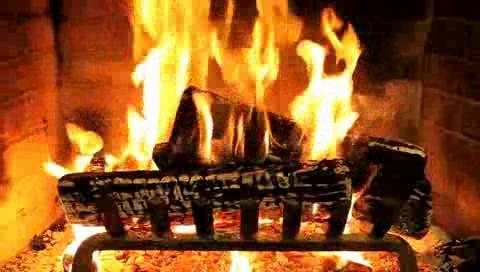fire: (113, 3, 365, 181)
